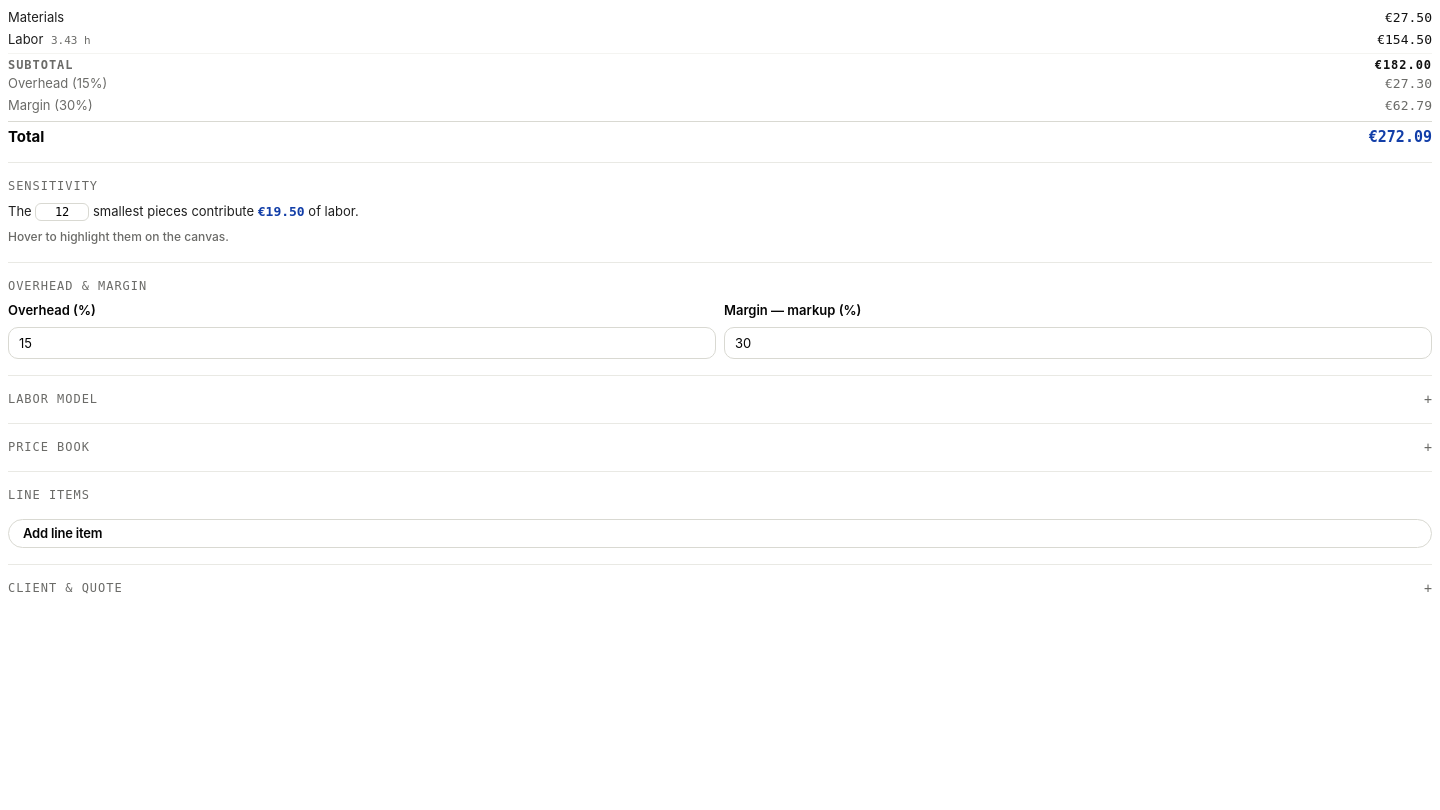
Test: QuotePanel (F-056) › offers the workshop-default actions when the port is available
Click the text "Price book".
click(49, 448)  # box [8, 440, 90, 455]
(page scrolled)
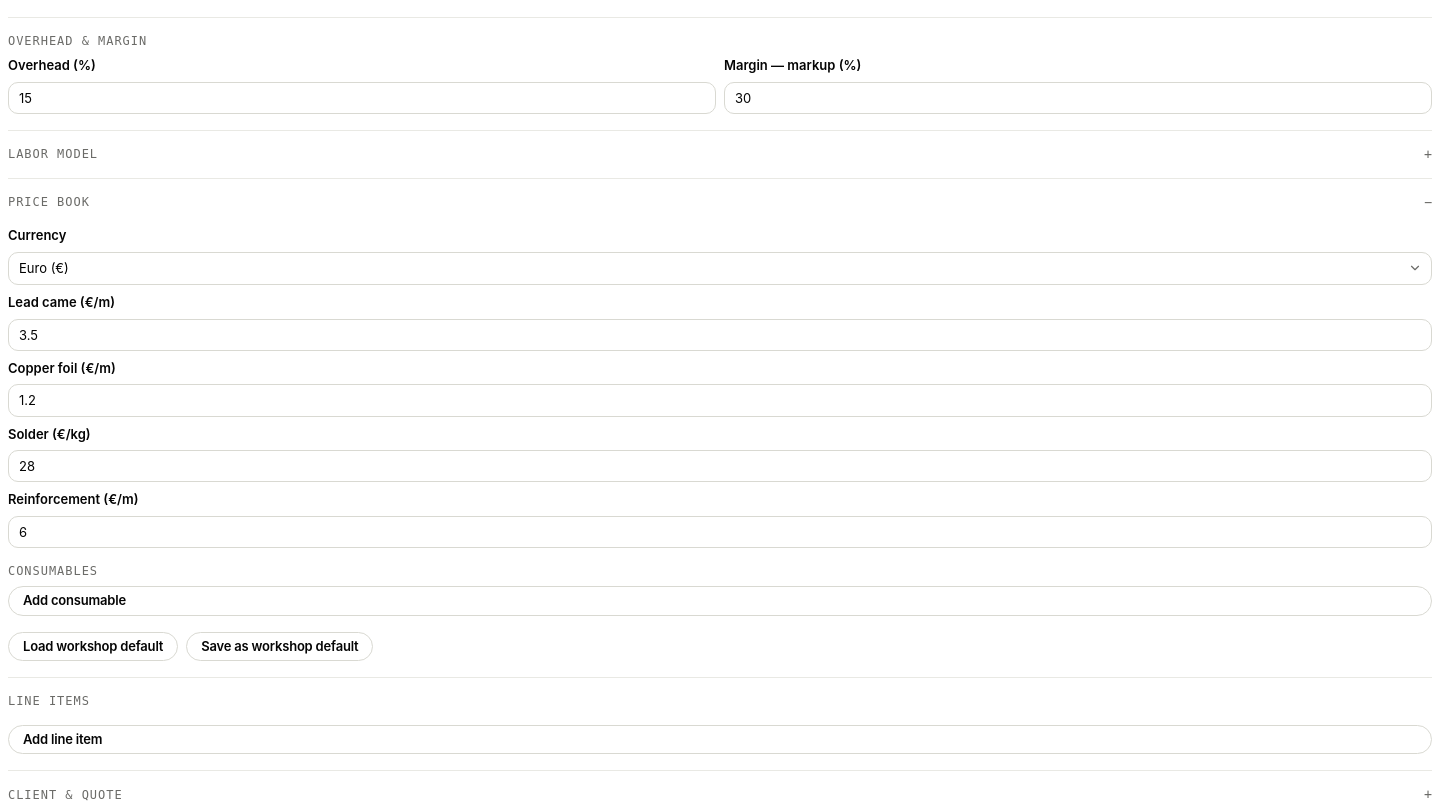
Expected: the button "Save as workshop default" is shown, [186, 632, 374, 662]
Expected: the button "Load workshop default" is shown, [8, 632, 178, 662]
